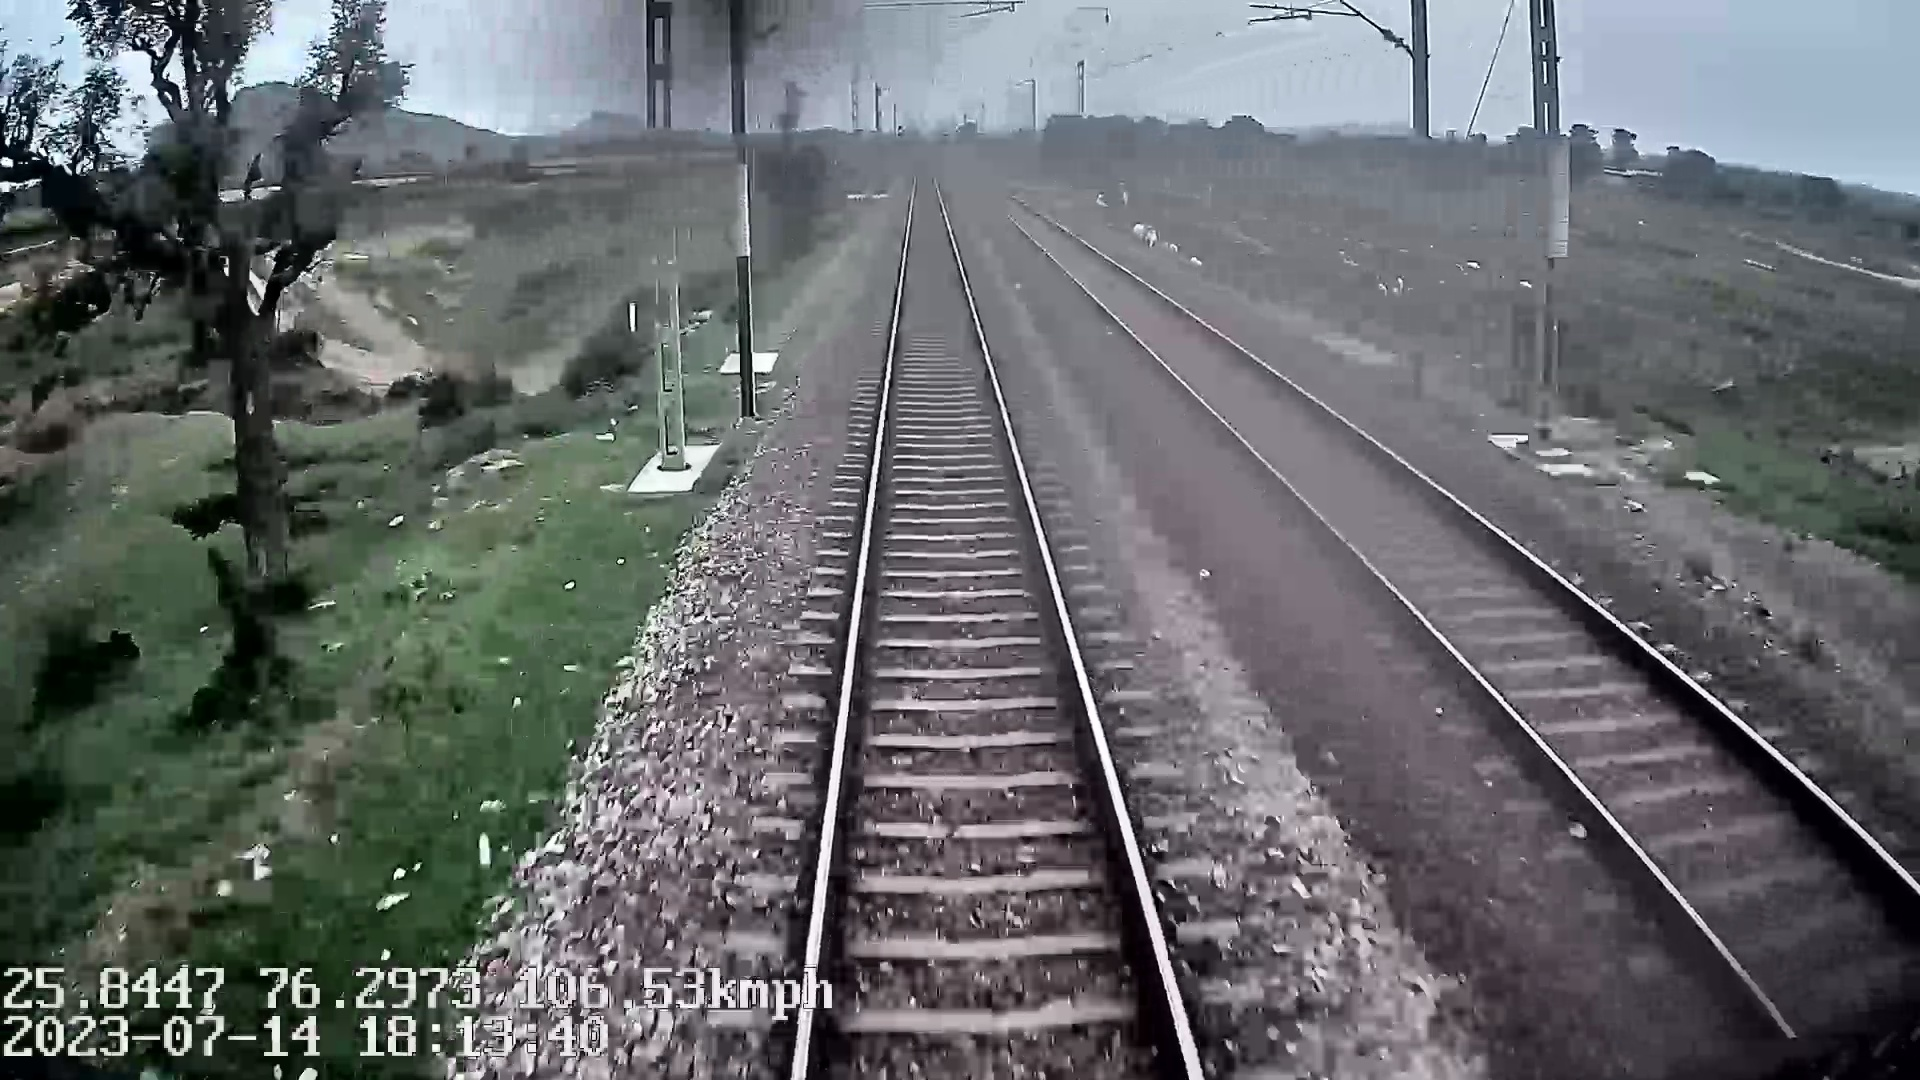track1: (803, 181, 1195, 1068)
track2: (1000, 212, 1919, 1033)
